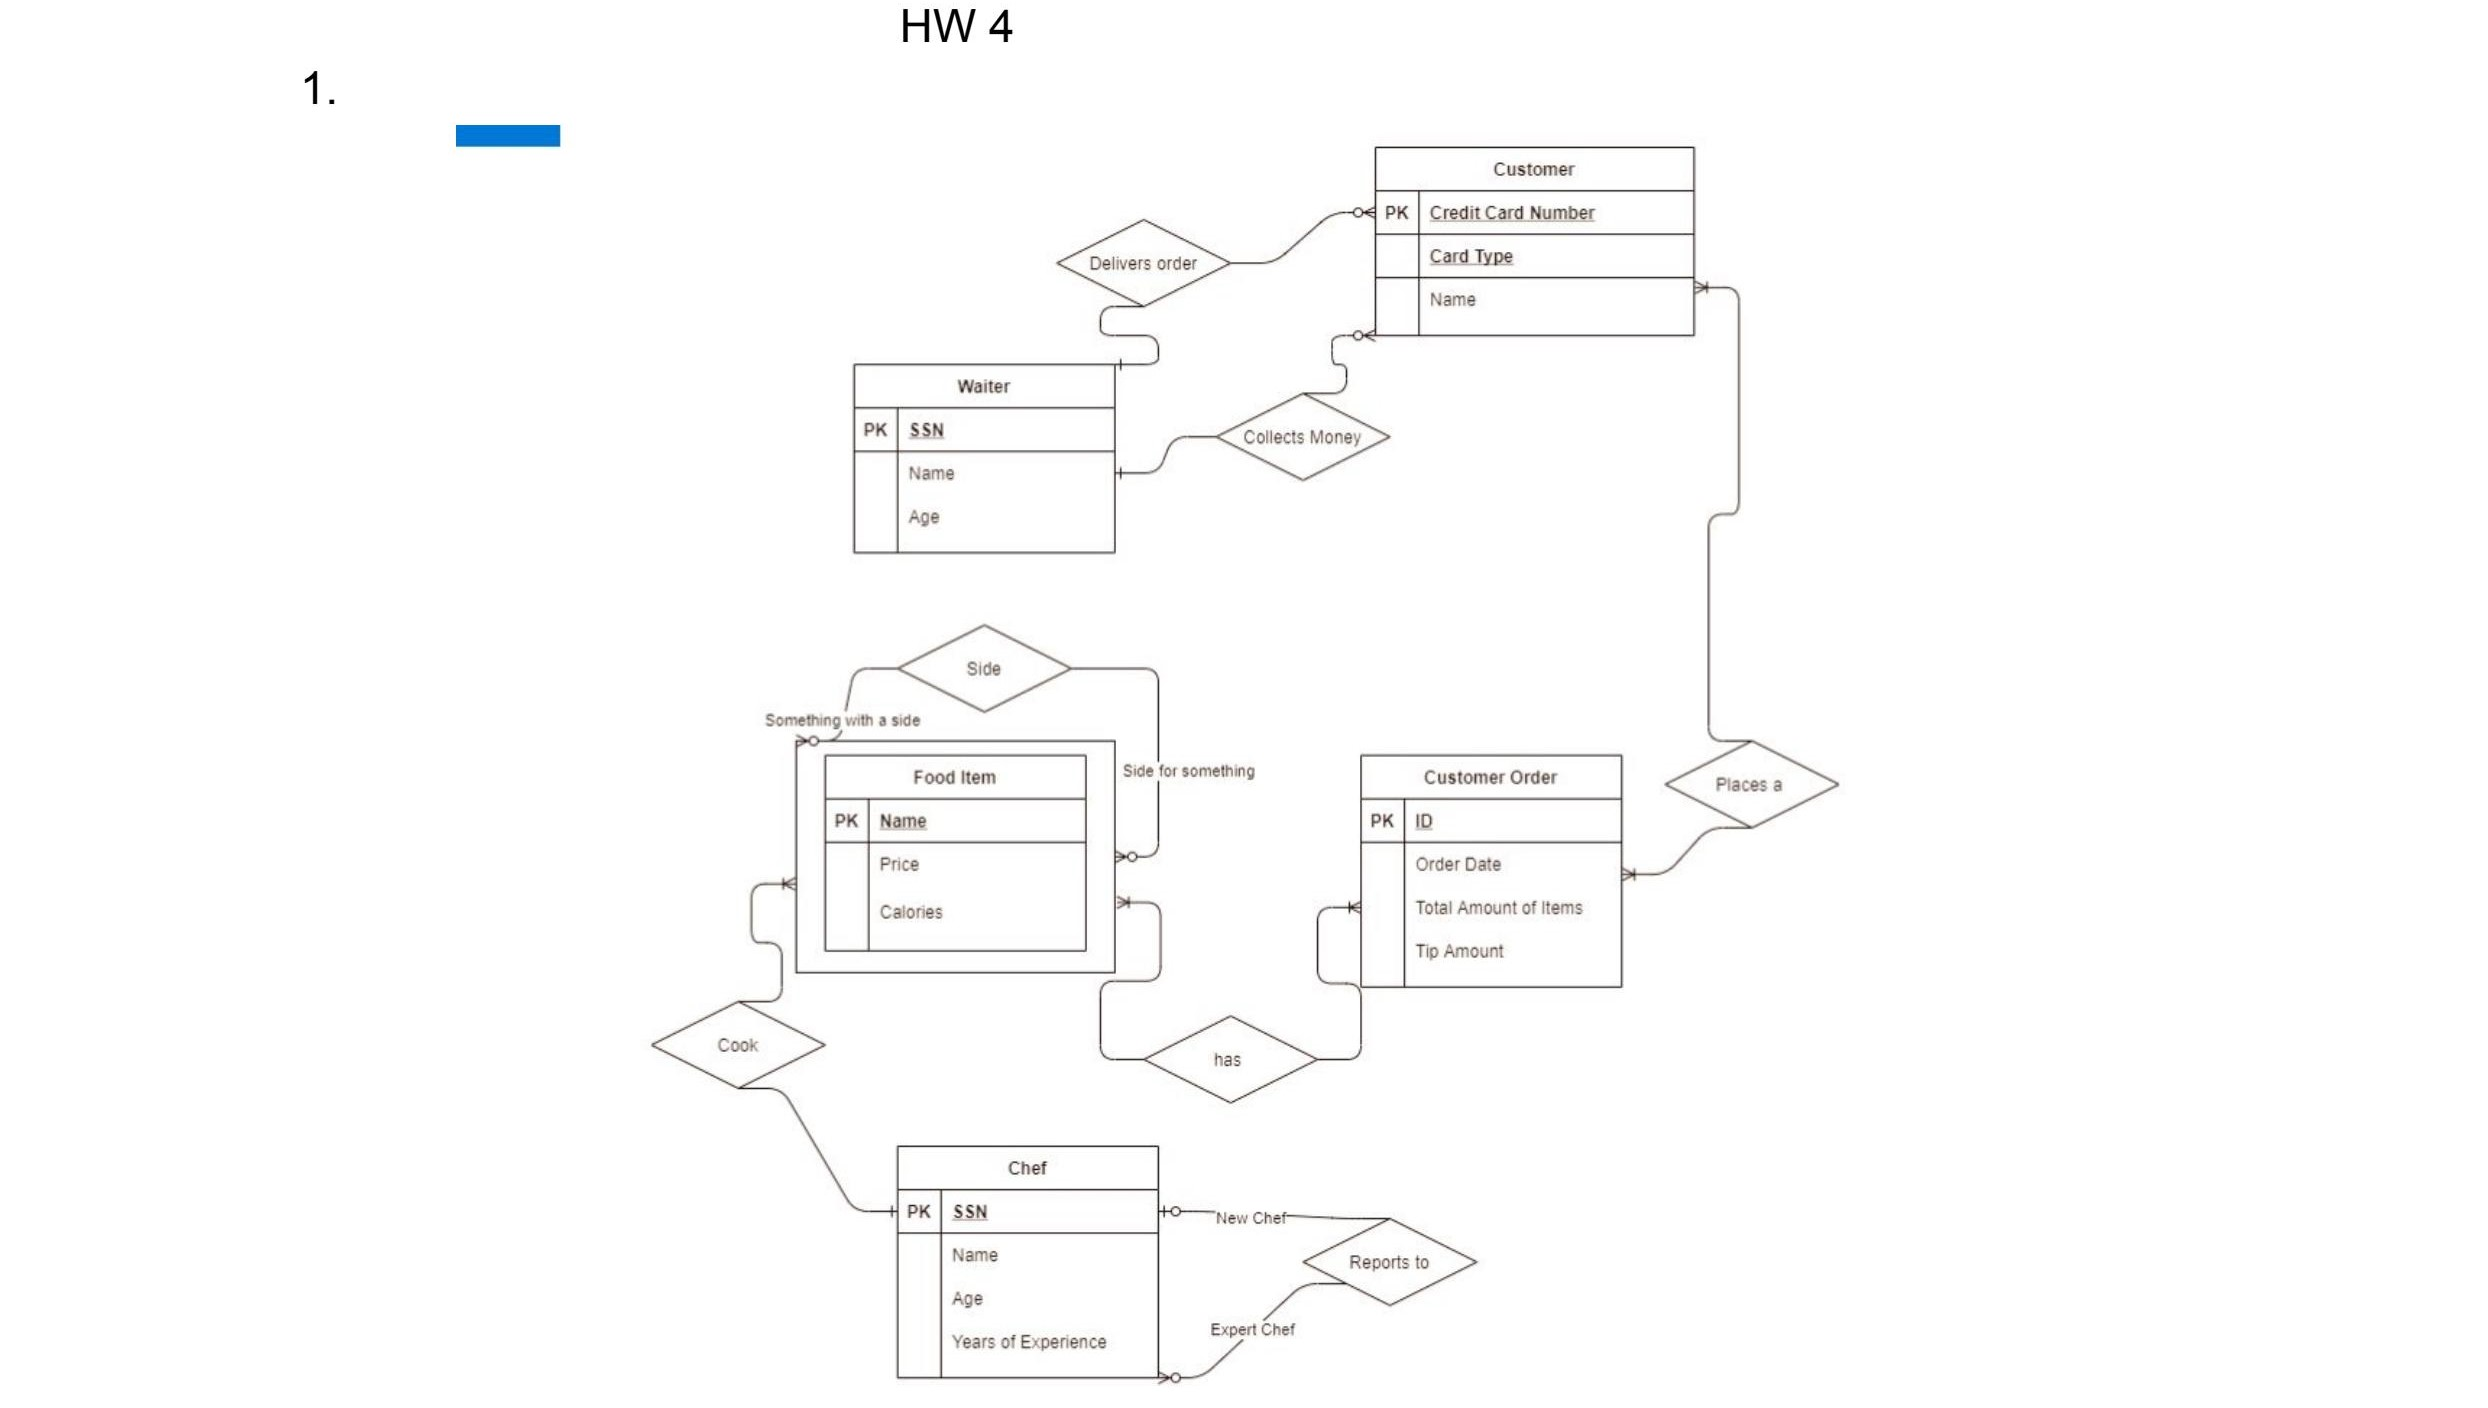Entity: (1358, 752, 1623, 989), (1372, 145, 1697, 338), (895, 1147, 1160, 1381), (824, 752, 1088, 953), (851, 362, 1118, 555)
Relationship: (1664, 738, 1840, 829), (899, 624, 1071, 714), (1056, 217, 1230, 306), (1217, 393, 1391, 482), (649, 1001, 827, 1088), (1145, 1015, 1317, 1104), (1304, 1218, 1478, 1305)
